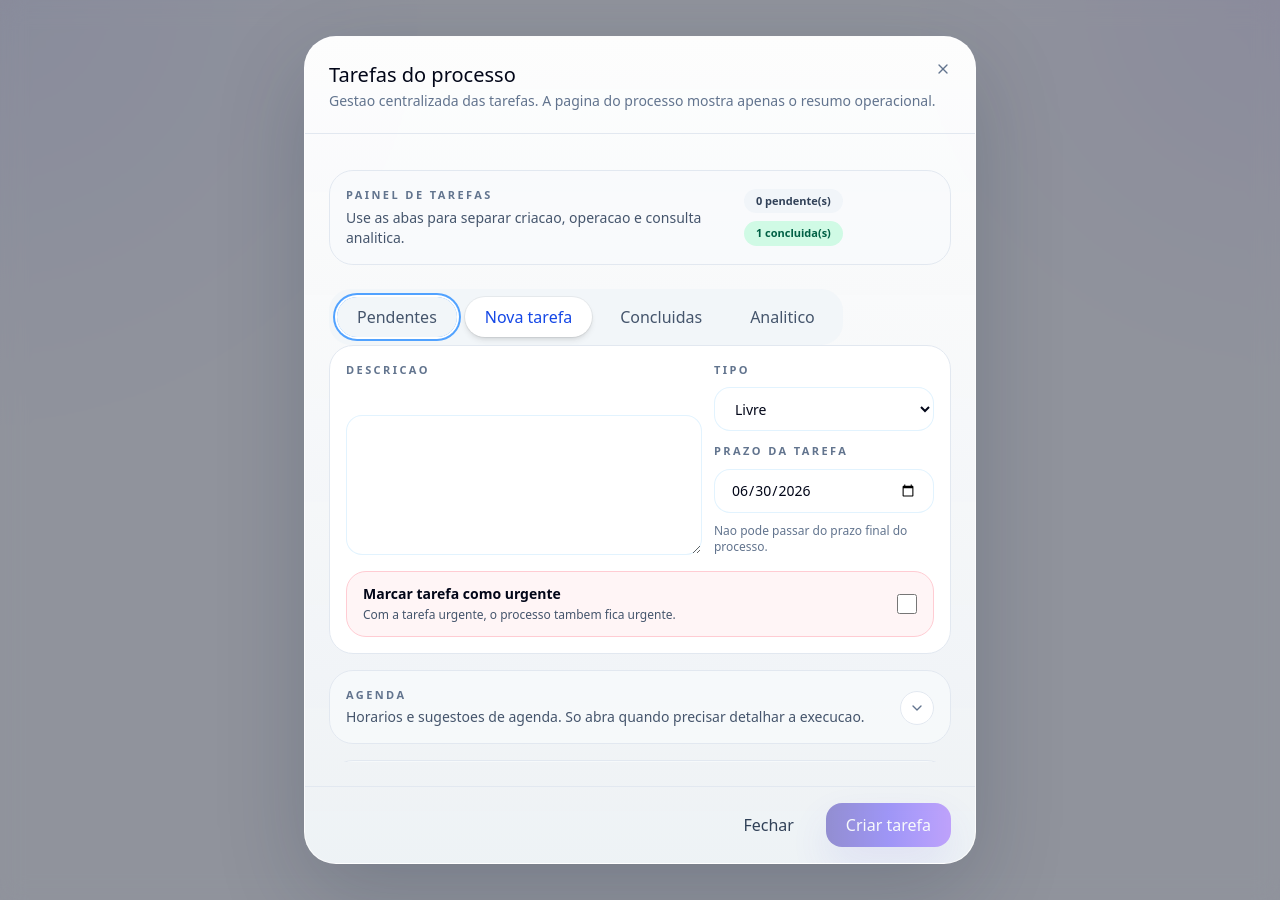
TarefasDialog › abre o editor ao clicar no card da tarefa
Click the tab "Concluidas": click(661, 316) [600,296,722,336]
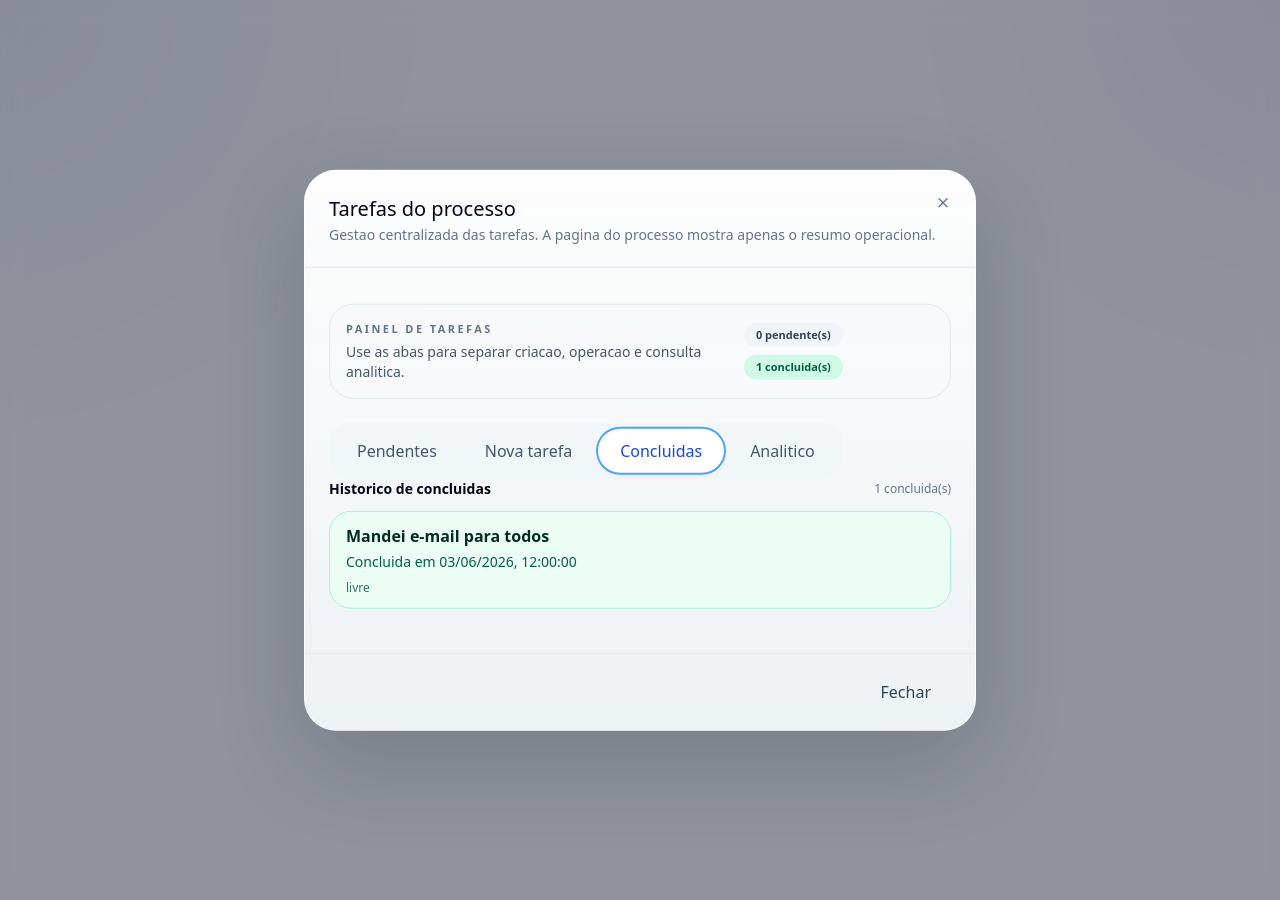
Click the button with aria-label "editar tarefa mandei e-mail para todos": click(448, 535) [329,510,951,608]
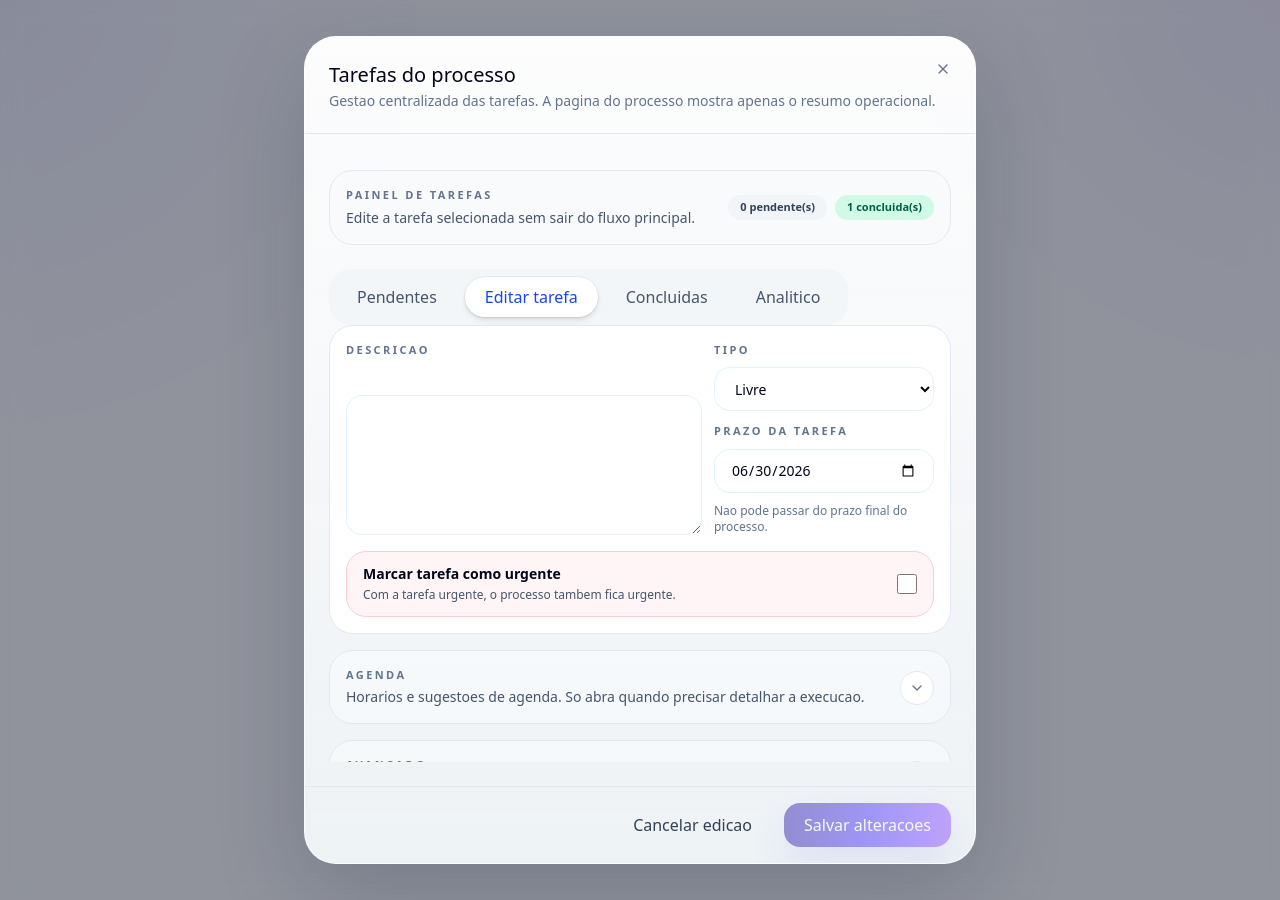
Now the tab "Editar tarefa" is shown, box [465,276,598,316]
Now the button "Salvar alteracoes" is shown, box [784,803,951,847]
